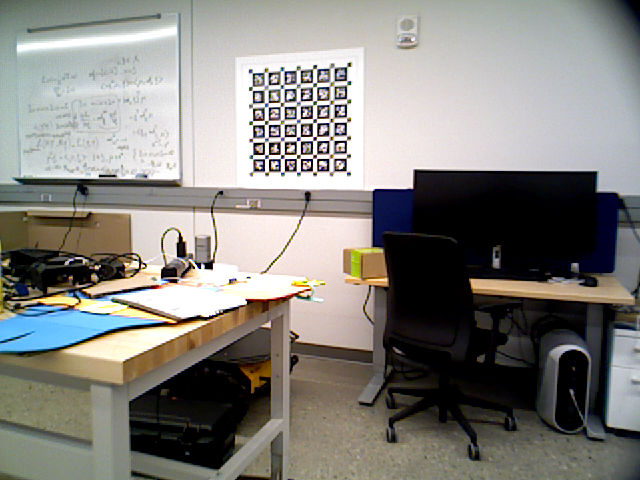painting4: (238, 49, 364, 188)
